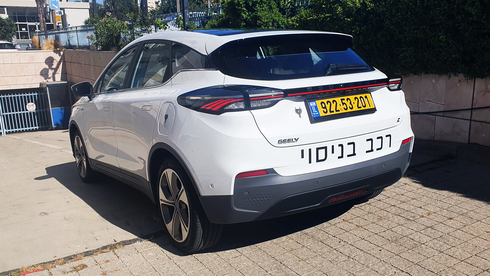licence: (307, 89, 376, 124)
